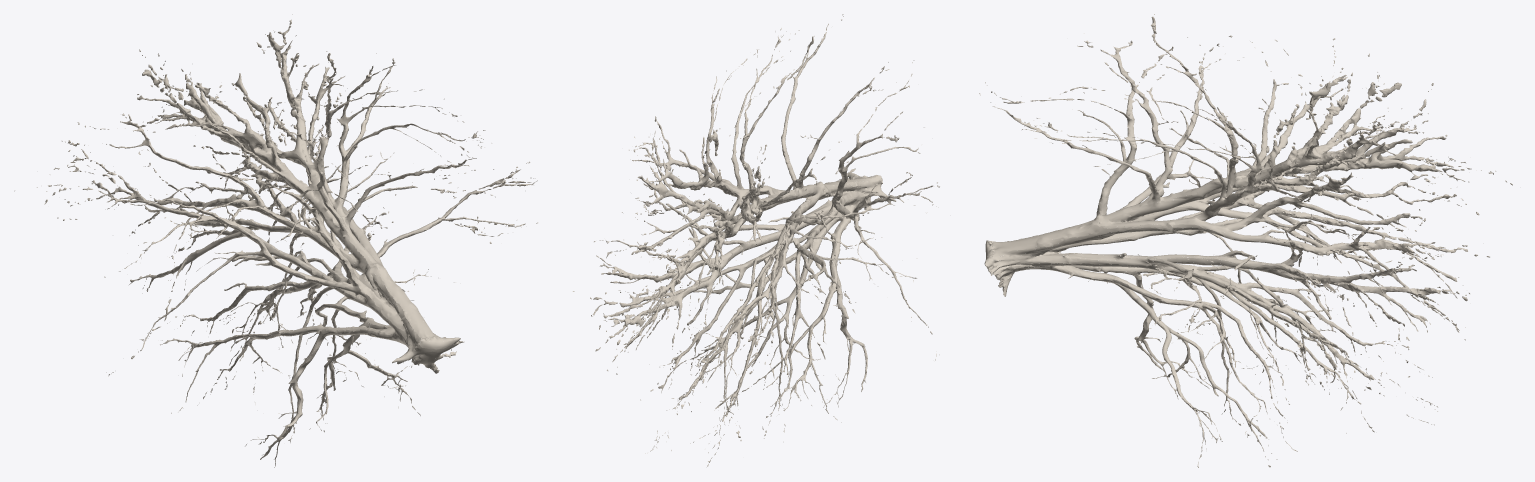
Rendered from tree_1_cand02.glb.
3 views of the same model, side by side, from view 1: azimuth 30°, elevation 25°; view 2: azimuth 150°, elevation 25°; view 3: azimuth 270°, elevation 25° (orthographic). The views are drawn at different scales.
Visible parts, largest first — view 1: world; view 2: world; view 3: world.
Boxes of the visible parts, bbox=[...] form: world: bbox=[14, 14, 538, 467]; world: bbox=[572, 14, 939, 466]; world: bbox=[979, 14, 1512, 467].
Bounding box in the file's own units: 1.83 × 1.82 × 2.09.
